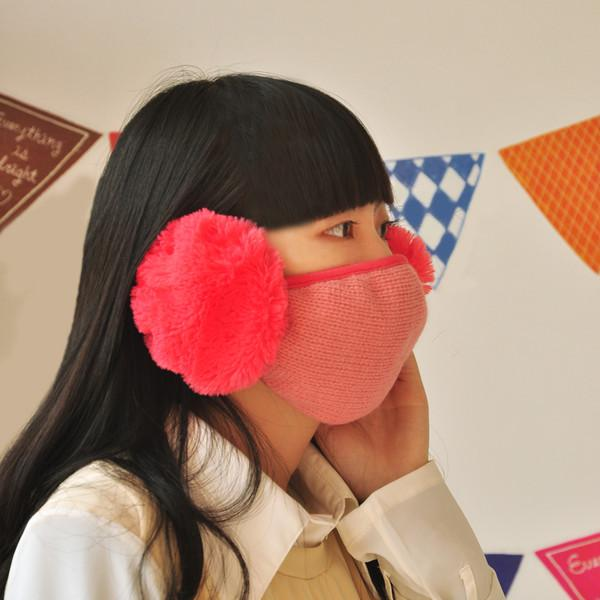OK: (188, 187, 429, 428)
